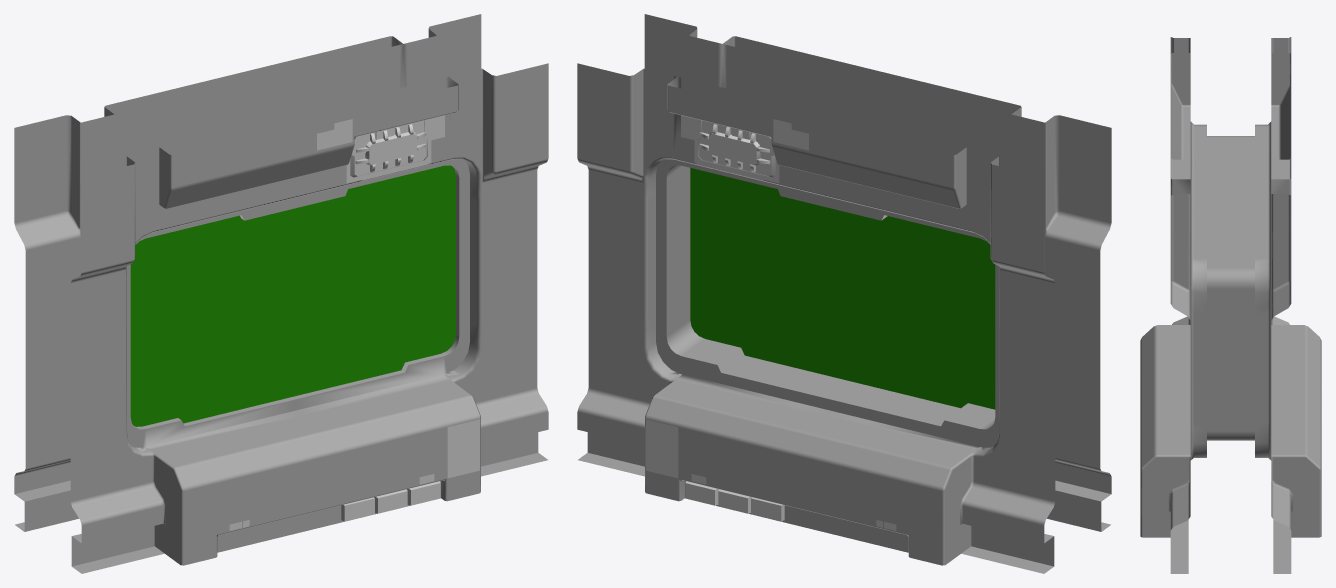
File: Wall_62_Window+Trim_4x3.fbx
3 renders of one model, left to right at view 1: azimuth 30°, elevation 25°; view 2: azimuth 150°, elevation 25°; view 3: azimuth 270°, elevation 25°, orthographic. The views are drawn at different scales.
Visible parts, largest first — view 1: Wall_62_Window+Trim_4x3, Details_1, Details_2; view 2: Wall_62_Window+Trim_4x3, Details_1, Details_2; view 3: Wall_62_Window+Trim_4x3.
Boxes of the visible parts, x1,y1,x2,y2 form: Wall_62_Window+Trim_4x3: [14, 14, 548, 573]; Details_1: [341, 115, 444, 521]; Details_2: [346, 120, 431, 183]; Wall_62_Window+Trim_4x3: [577, 14, 1111, 573]; Details_1: [681, 115, 784, 521]; Details_2: [694, 120, 779, 183]; Wall_62_Window+Trim_4x3: [1140, 37, 1321, 573].
Bounding box in the file's own units: 4 × 3.25 × 1.5.
